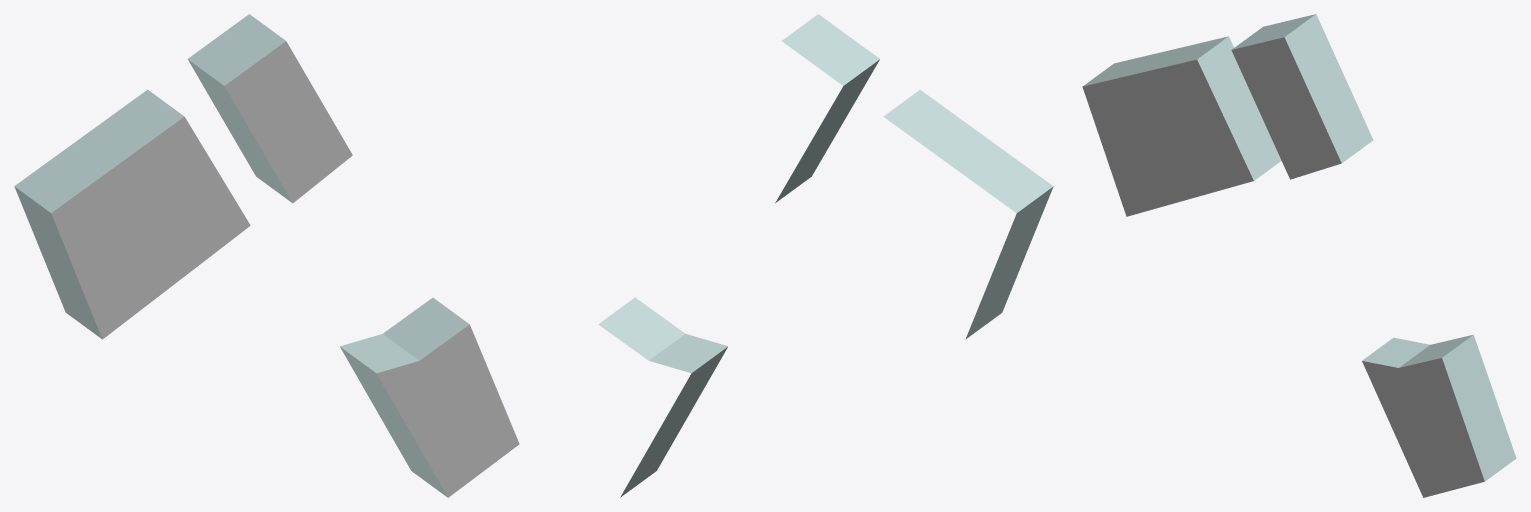
3 renders of one model, left to right at view 1: azimuth 30°, elevation 25°; view 2: azimuth 150°, elevation 25°; view 3: azimuth 330°, elevation 25°, orthographic. The views are drawn at different scales.
Visible parts, largest first — view 1: 0_2_2_3_1_2_1_2_3; view 2: 0_2_2_3_1_2_1_2_3; view 3: 0_2_2_3_1_2_1_2_3.
Boxes of the visible parts, bbox=[...] form: 0_2_2_3_1_2_1_2_3: bbox=[14, 14, 519, 497]; 0_2_2_3_1_2_1_2_3: bbox=[598, 14, 1053, 497]; 0_2_2_3_1_2_1_2_3: bbox=[1082, 14, 1516, 497].
Bounding box in the file's own units: 21.98 × 22.26 × 3.02.
